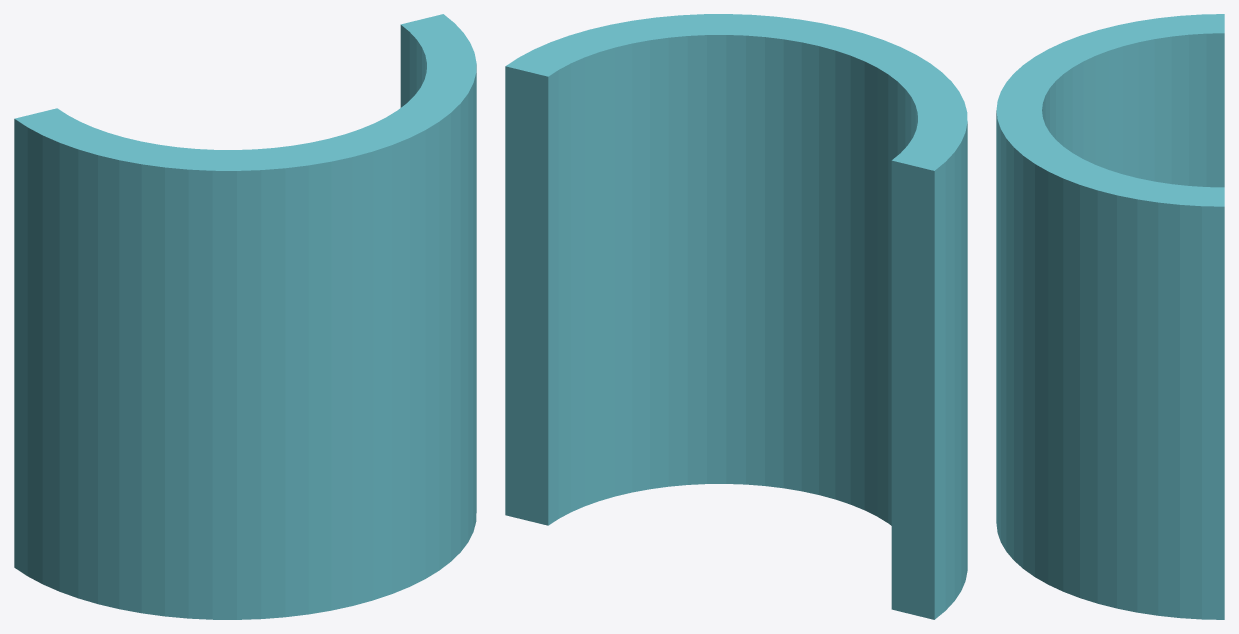
File: tinker.obj
The picture shows the model from 3 angles, left to right: view 1: azimuth 30°, elevation 25°; view 2: azimuth 150°, elevation 25°; view 3: azimuth 270°, elevation 25°; orthographic projection. The views are drawn at different scales.
Visible parts, largest first — view 1: obj_0; view 2: obj_0; view 3: obj_0.
Boxes of the visible parts, x1,y1,x2,y2 form: obj_0: (14, 14, 476, 619); obj_0: (505, 14, 967, 619); obj_0: (996, 14, 1224, 619).
Bounding box in the file's own units: 30 × 30 × 15.
